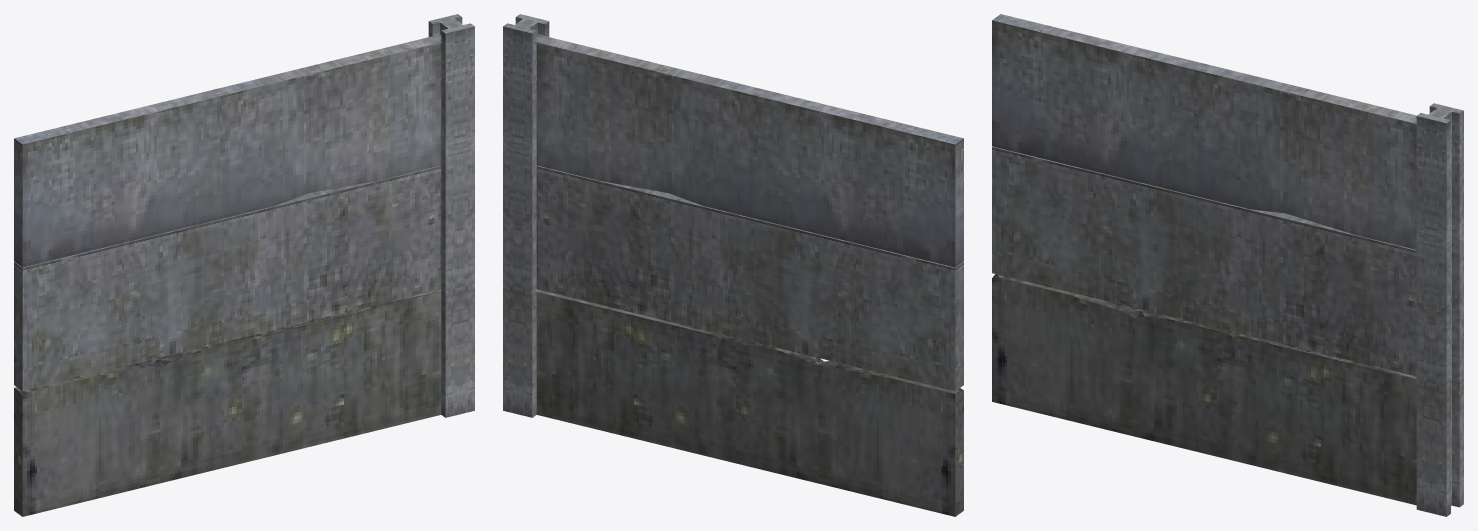
The model's file is lf_plackard_open_c.glb.
The picture shows the model from 3 angles, left to right: view 1: azimuth 30°, elevation 25°; view 2: azimuth 150°, elevation 25°; view 3: azimuth 330°, elevation 25°; orthographic projection. The views are drawn at different scales.
Parts seen in each view (by area): view 1: plackard_open_alt2; view 2: plackard_open_alt2; view 3: plackard_open_alt2.
Boxes of the visible parts, x1,y1,x2,y2 form: plackard_open_alt2: (14, 14, 474, 516); plackard_open_alt2: (503, 14, 963, 516); plackard_open_alt2: (992, 14, 1463, 516).
Bounding box in the file's own units: 3.05 × 2.5 × 0.1999.
1 material, 1 textured.
